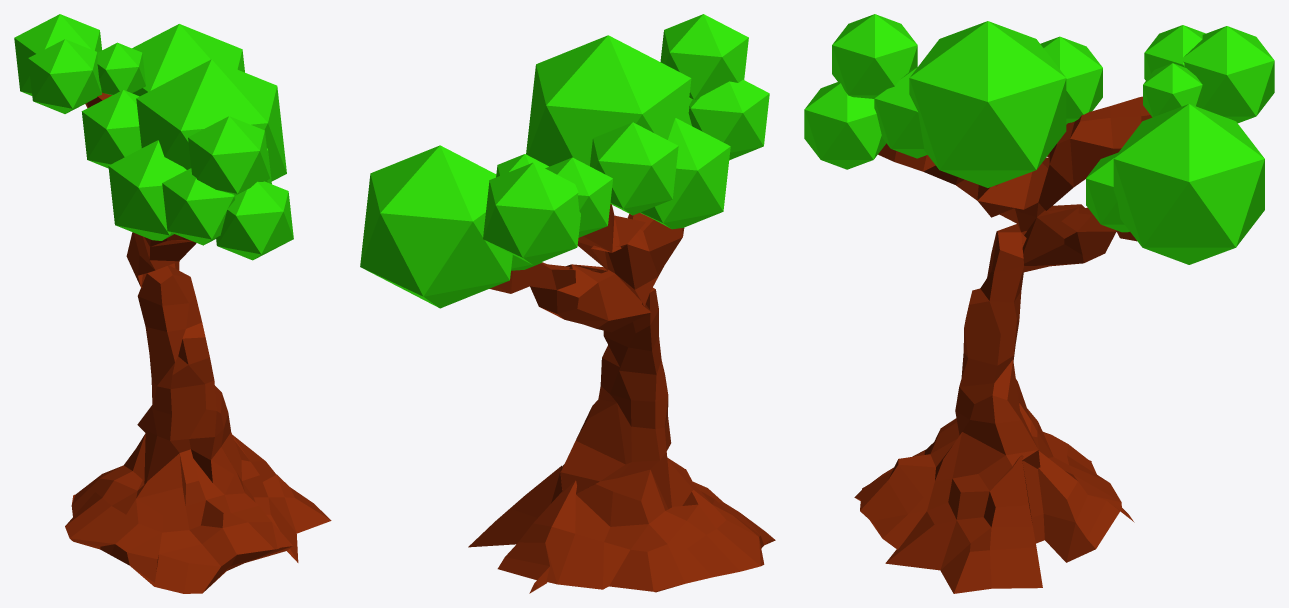
File: tree1.glb
3 views of the same model, side by side, from view 1: azimuth 30°, elevation 25°; view 2: azimuth 150°, elevation 25°; view 3: azimuth 270°, elevation 25° (orthographic). The views are drawn at different scales.
Parts seen in each view (by area): view 1: trunk, Icosphere.017, Icosphere.021, Icosphere.016, Icosphere.022, Icosphere.019, Icosphere.015, Icosphere.023, Icosphere.013, Icosphere.020, Icosphere.018; view 2: trunk, Icosphere.015, Icosphere.017, Icosphere.020, Icosphere.013, Icosphere.016, Icosphere.021, Icosphere.023, Icosphere.019; view 3: trunk, Icosphere.017, Icosphere.015, Icosphere.020, Icosphere.021, Icosphere.022, Icosphere.013, Icosphere.024, Icosphere.018, Icosphere.014, Icosphere.019.
Boxes of the visible parts, x1,y1,x2,y2 form: trunk: (65, 92, 331, 593); Icosphere.017: (136, 59, 286, 181); Icosphere.021: (188, 116, 270, 195); Icosphere.016: (108, 140, 186, 240); Icosphere.022: (216, 181, 293, 260); Icosphere.019: (28, 39, 101, 113); Icosphere.015: (132, 24, 244, 96); Icosphere.023: (162, 168, 235, 245); Icosphere.013: (81, 90, 141, 168); Icosphere.020: (14, 14, 101, 95); Icosphere.018: (97, 42, 145, 95); trunk: (468, 204, 775, 593); Icosphere.015: (360, 145, 512, 308); Icosphere.017: (526, 35, 691, 166); Icosphere.020: (483, 162, 580, 265); Icosphere.013: (590, 122, 678, 215); Icosphere.016: (640, 118, 730, 229); Icosphere.021: (660, 14, 748, 99); Icosphere.023: (688, 79, 769, 160); Icosphere.019: (545, 157, 612, 237); trunk: (854, 96, 1152, 593); Icosphere.017: (909, 21, 1066, 187); Icosphere.015: (1113, 104, 1264, 264); Icosphere.020: (1183, 26, 1274, 123); Icosphere.021: (832, 14, 917, 98); Icosphere.022: (804, 82, 886, 169); Icosphere.013: (1040, 36, 1102, 124); Icosphere.024: (874, 67, 927, 158); Icosphere.018: (1143, 63, 1202, 117); Icosphere.014: (1086, 153, 1129, 232); Icosphere.019: (1144, 25, 1205, 80).
Bounding box in the file's own units: 10.48 × 18.21 × 14.88.
